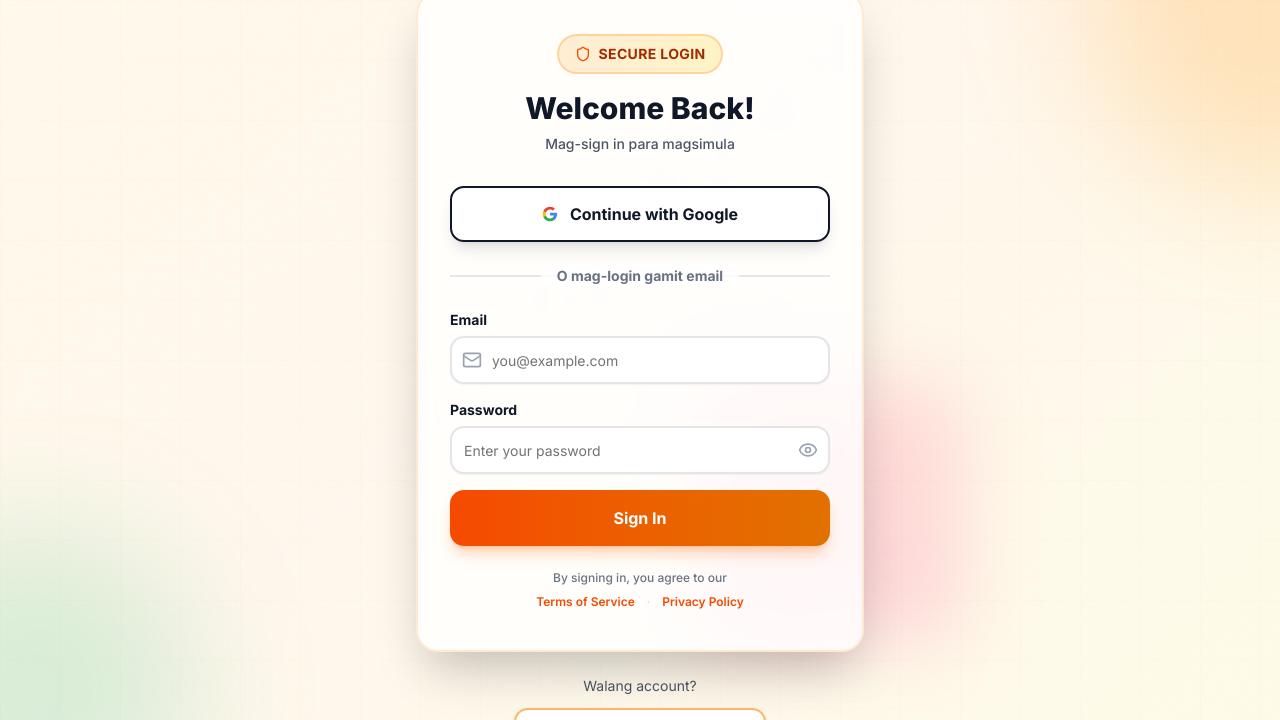
Email Login - LoginPage › shows error for invalid credentials
This screenshot has width=1280, height=720.
(page scrolled)
Type "wrong@example.com" into the field labelled "Email" at (640, 360), box [450,336,830,384]
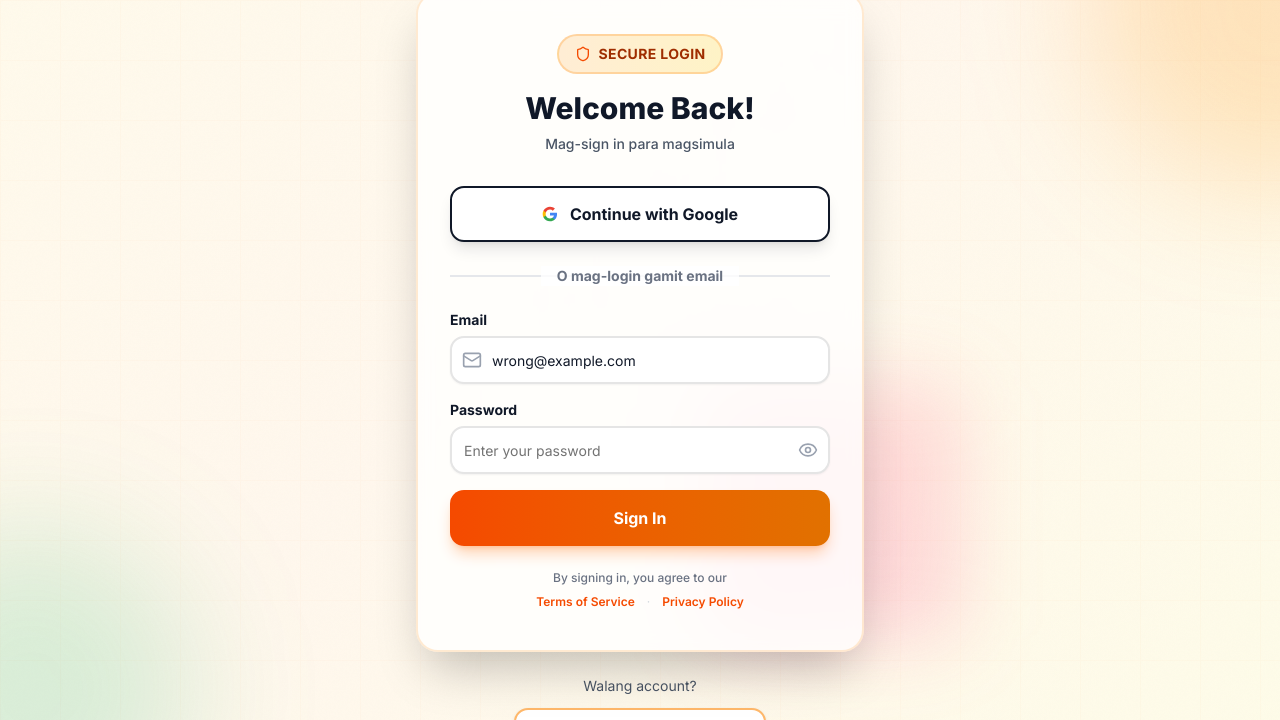
Type "wrongpass" into the password field labelled "Password" at (640, 450), box [450,426,830,474]
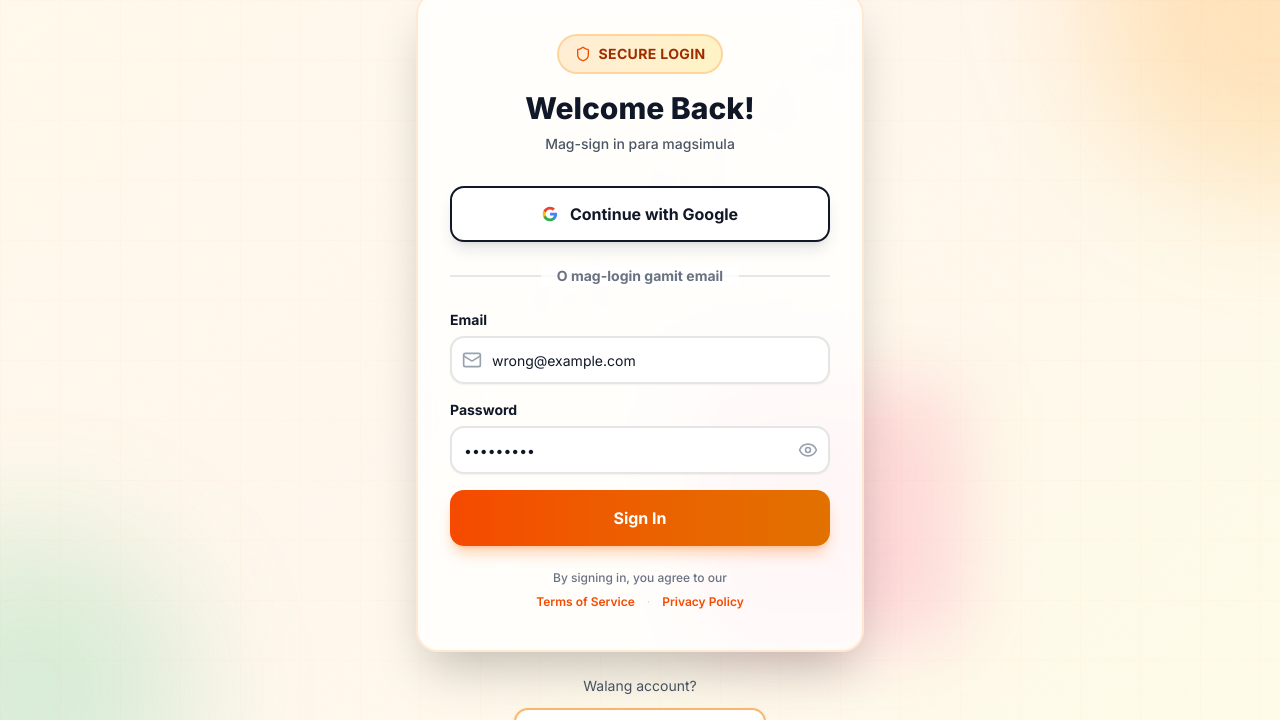
Click the button "Sign In" at (640, 518), box [450,490,830,546]
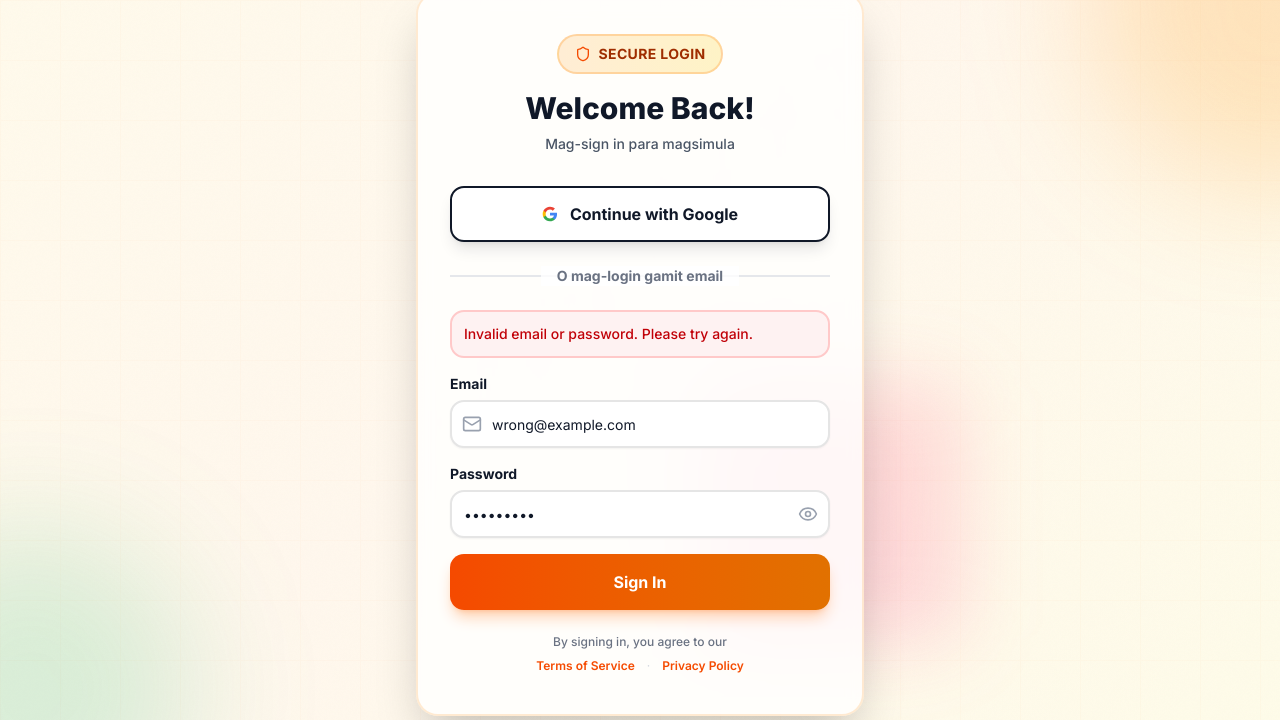
Check: the text "Invalid email or password. Please try again." is shown, box [450,310,830,358]
